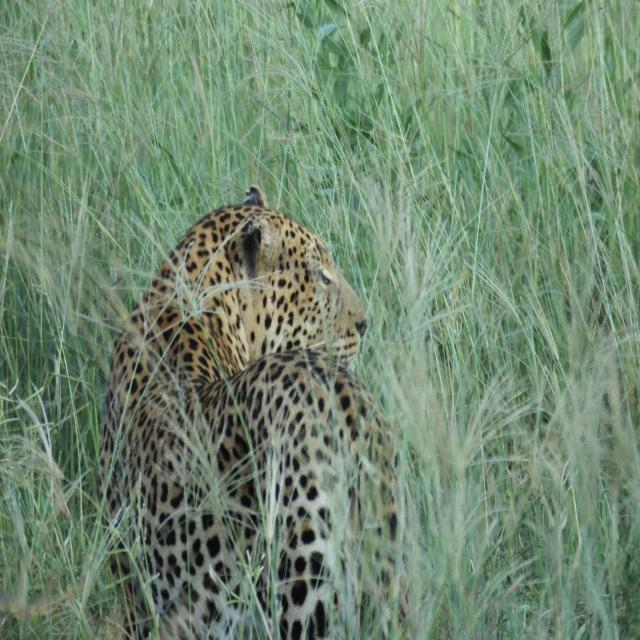Leopard: (78, 162, 440, 640)
